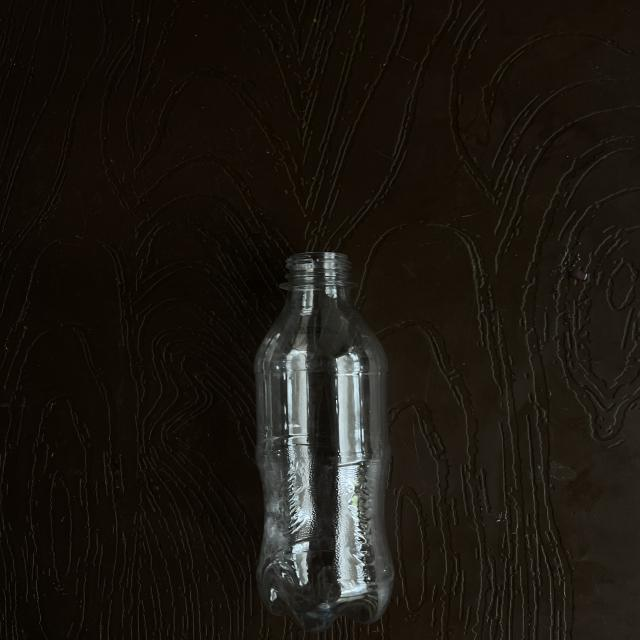PET_ClearBottle: (242, 249, 535, 630)
